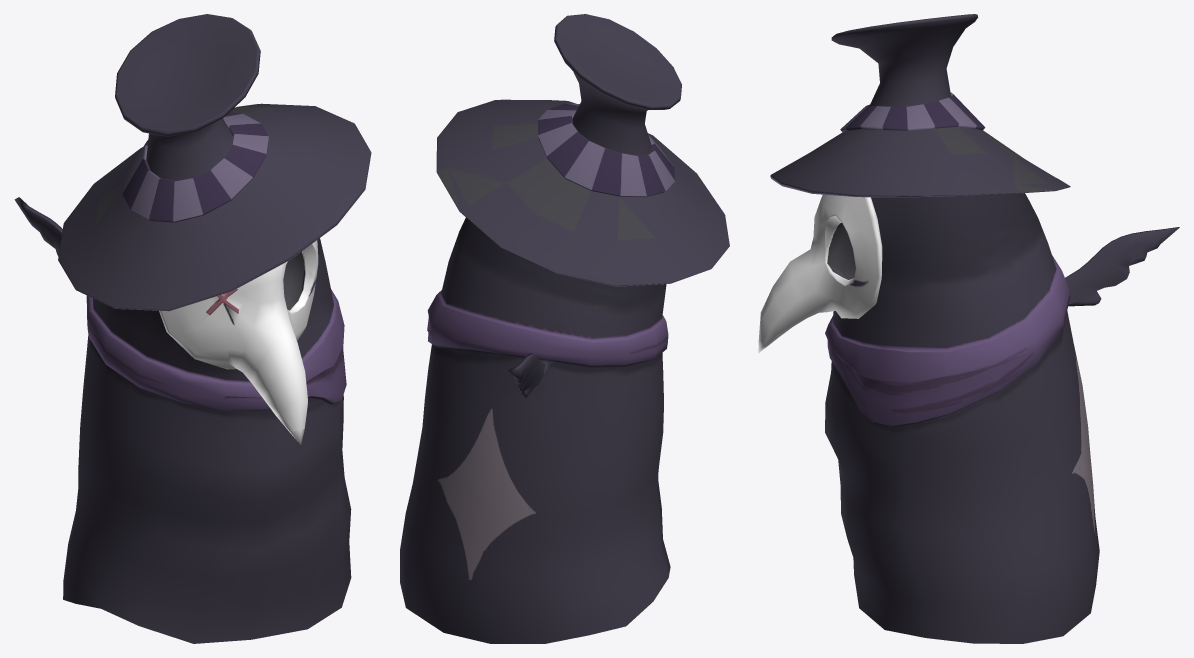
The model's file is ShadowStock_Player_v1.fbx.
3 renders of one model, left to right at view 1: azimuth 30°, elevation 25°; view 2: azimuth 150°, elevation 25°; view 3: azimuth 270°, elevation 25°, orthographic. The views are drawn at different scales.
Parts seen in each view (by area): view 1: Body_GEO, Hat_GEO; view 2: Body_GEO, Hat_GEO; view 3: Body_GEO, Hat_GEO.
Part boxes in pixels (x1,y1,x2,y2): Body_GEO: (14, 197, 351, 643); Hat_GEO: (58, 14, 371, 311); Body_GEO: (400, 217, 670, 643); Hat_GEO: (436, 14, 729, 286); Body_GEO: (758, 193, 1179, 643); Hat_GEO: (770, 14, 1070, 197).
Bounding box in the file's own units: 6.98 × 13.85 × 9.17.
Materials: 1 (1 with a texture image).
